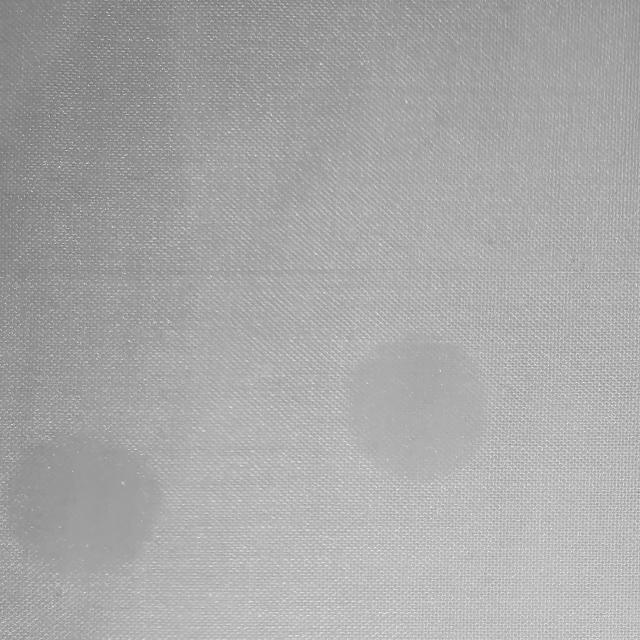Stain: (8, 439, 160, 574), (348, 340, 487, 483)
